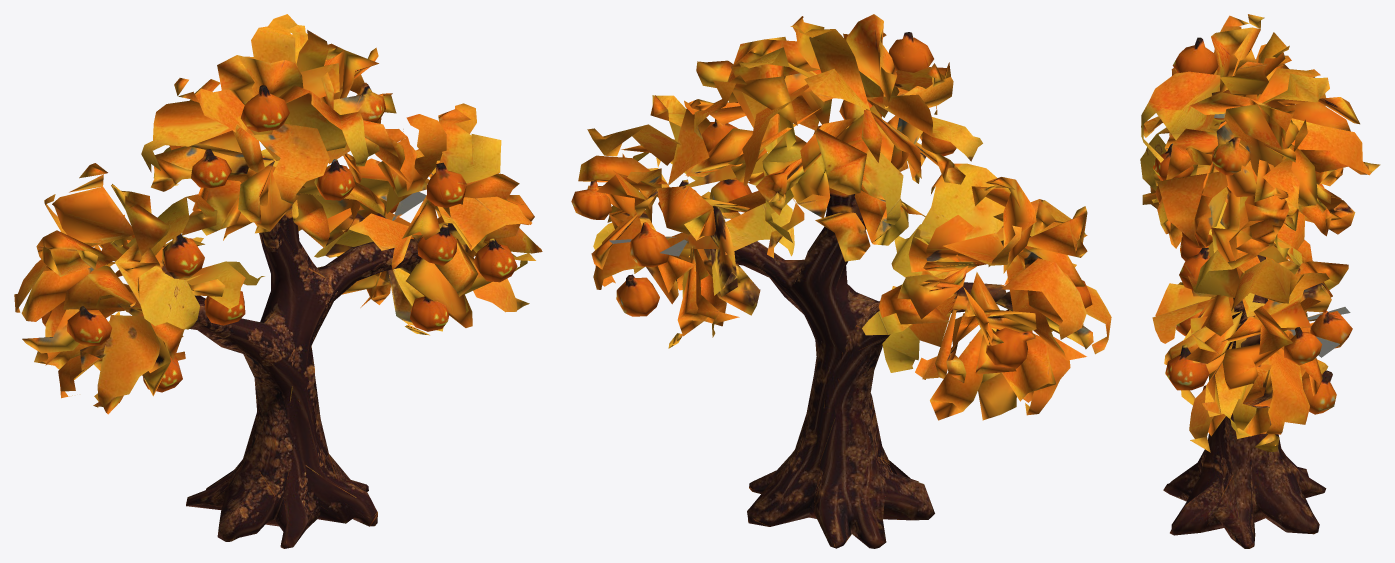
Rendered from AW-HW-TREE-003-v0.2.glb.
3 views of the same model, side by side, from view 1: azimuth 30°, elevation 25°; view 2: azimuth 150°, elevation 25°; view 3: azimuth 270°, elevation 25° (orthographic). The views are drawn at different scales.
Parts seen in each view (by area): view 1: AW-HW-TREE-003_meter_ground_pivot; view 2: AW-HW-TREE-003_meter_ground_pivot; view 3: AW-HW-TREE-003_meter_ground_pivot.
Part boxes in pixels (x1,y1,x2,y2): AW-HW-TREE-003_meter_ground_pivot: (14, 14, 542, 548); AW-HW-TREE-003_meter_ground_pivot: (571, 14, 1111, 548); AW-HW-TREE-003_meter_ground_pivot: (1140, 14, 1380, 548).
Bounding box in the file's own units: 5.47 × 5 × 2.31.
1 material, 1 textured.
